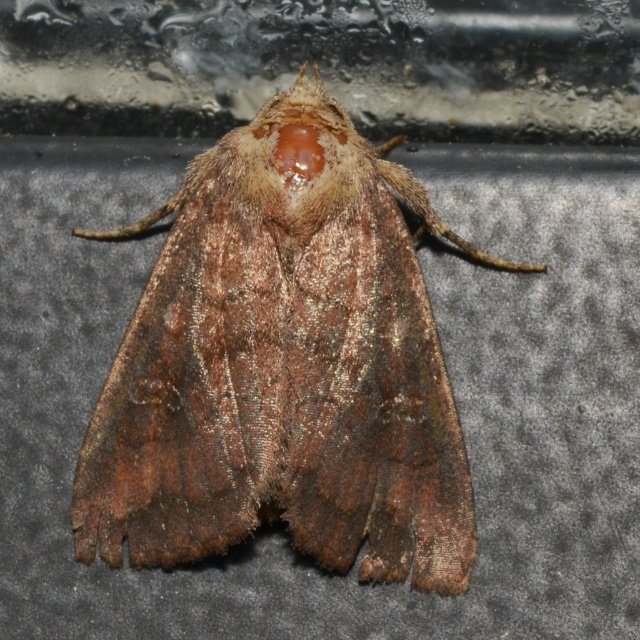Moths and butterflies: (72, 57, 552, 602)
